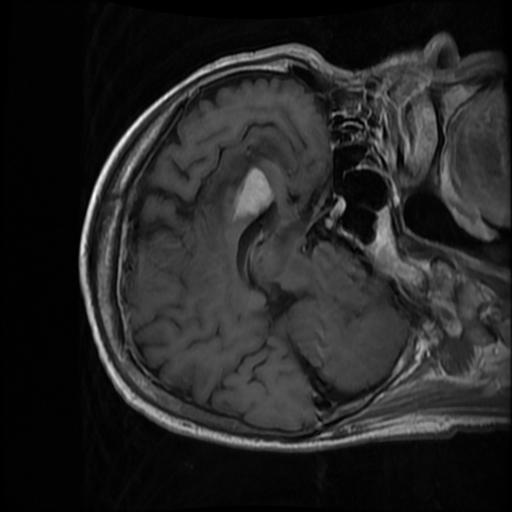glioma: (229, 167, 275, 223)
